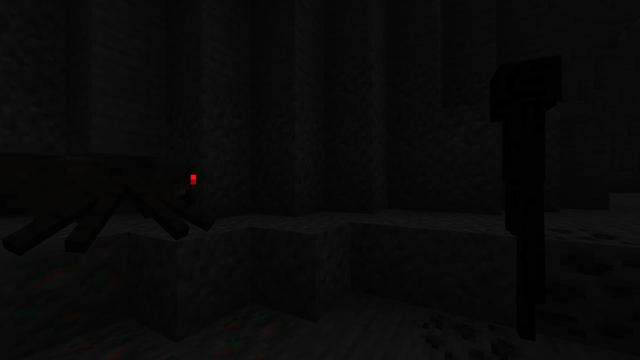araignees: (22, 145, 216, 255)
endermens: (487, 41, 568, 355)
